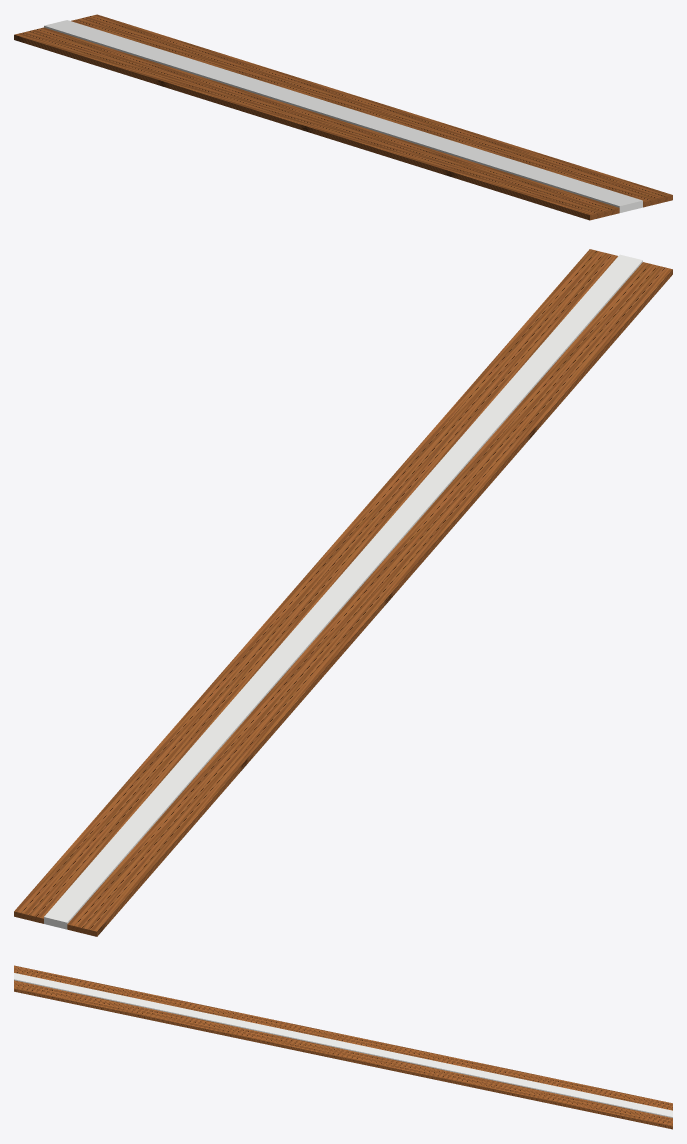
File: velodrome-and-track-cycling-pursuit-line-plate-40a74dcd__37982.glb
3 renders of one model, top to bottom at view 1: azimuth 30°, elevation 25°; view 2: azimuth 150°, elevation 25°; view 3: azimuth 270°, elevation 25°, orthographic. The views are drawn at different scales.
Parts seen in each view (by area): view 1: pursuit-line-plate-board, pursuit-line-plate-chalk; view 2: pursuit-line-plate-board, pursuit-line-plate-chalk; view 3: pursuit-line-plate-board, pursuit-line-plate-chalk.
Part boxes in pixels (x1,y1,x2,y2): pursuit-line-plate-board: [14, 14, 672, 220]; pursuit-line-plate-chalk: [44, 20, 642, 212]; pursuit-line-plate-board: [14, 249, 672, 936]; pursuit-line-plate-chalk: [44, 254, 642, 929]; pursuit-line-plate-board: [14, 965, 672, 1129]; pursuit-line-plate-chalk: [14, 973, 672, 1117].
Bounding box in the file's own units: 0.5003 × 1.43 × 6.
2 materials, 1 textured.
